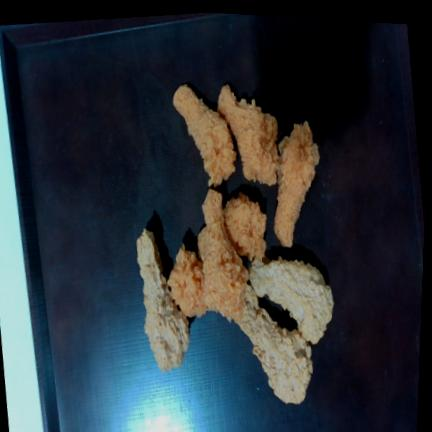chicken: (235, 284, 312, 403), (136, 228, 189, 370), (249, 257, 333, 343), (197, 189, 248, 320), (172, 84, 235, 185), (217, 84, 278, 185), (274, 121, 319, 245)
